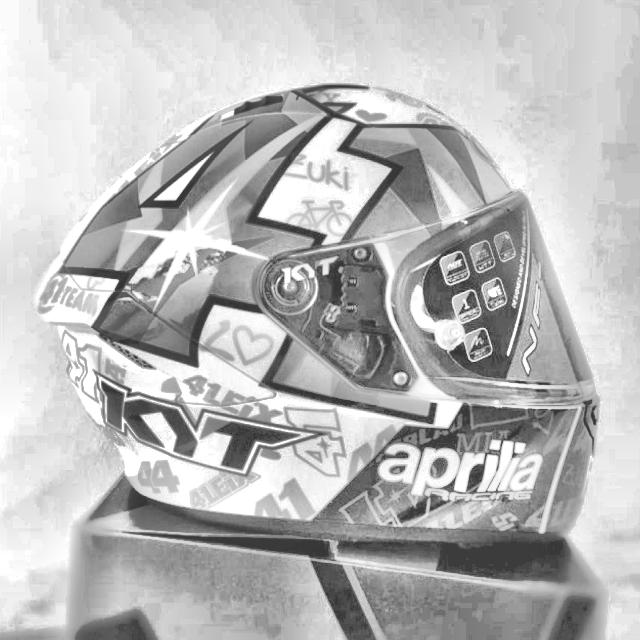Helmet: (32, 61, 612, 564)
